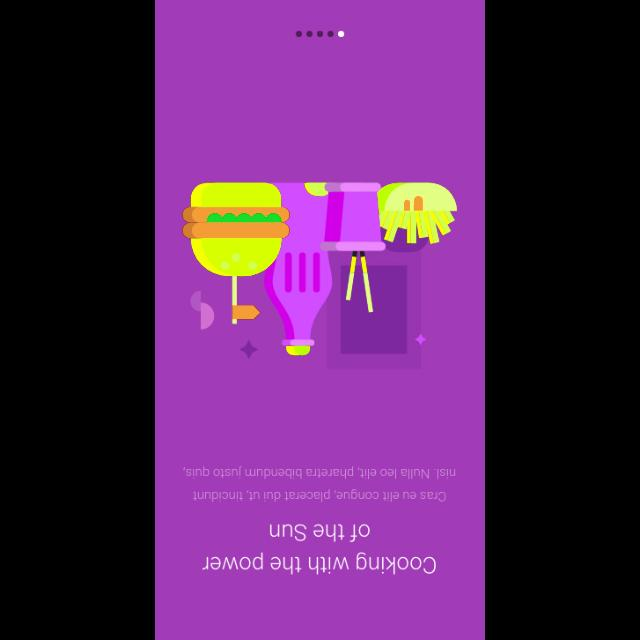image: (182, 182, 456, 368)
pageindicator: (294, 29, 344, 38)
text: (201, 523, 435, 575), (182, 466, 454, 502)
